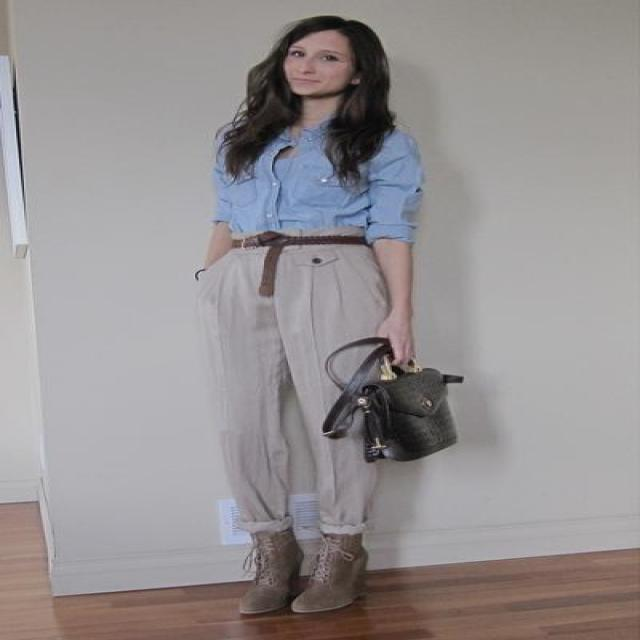bag: (327, 337, 462, 469)
pants: (192, 245, 390, 550)
shirt: (194, 126, 420, 240)
shoe: (227, 528, 373, 617)
